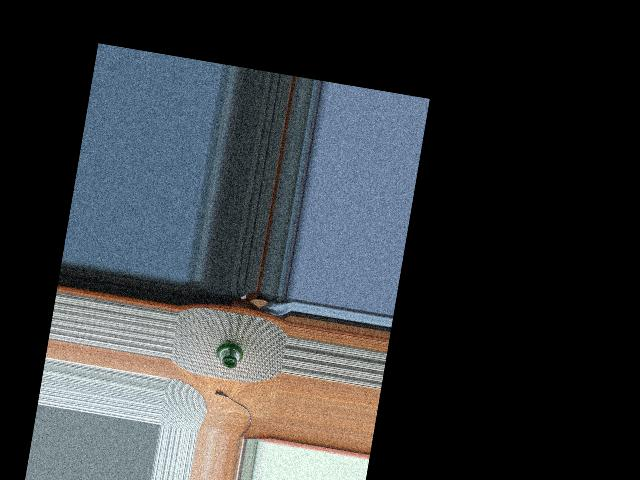beer: (214, 338, 243, 369)
